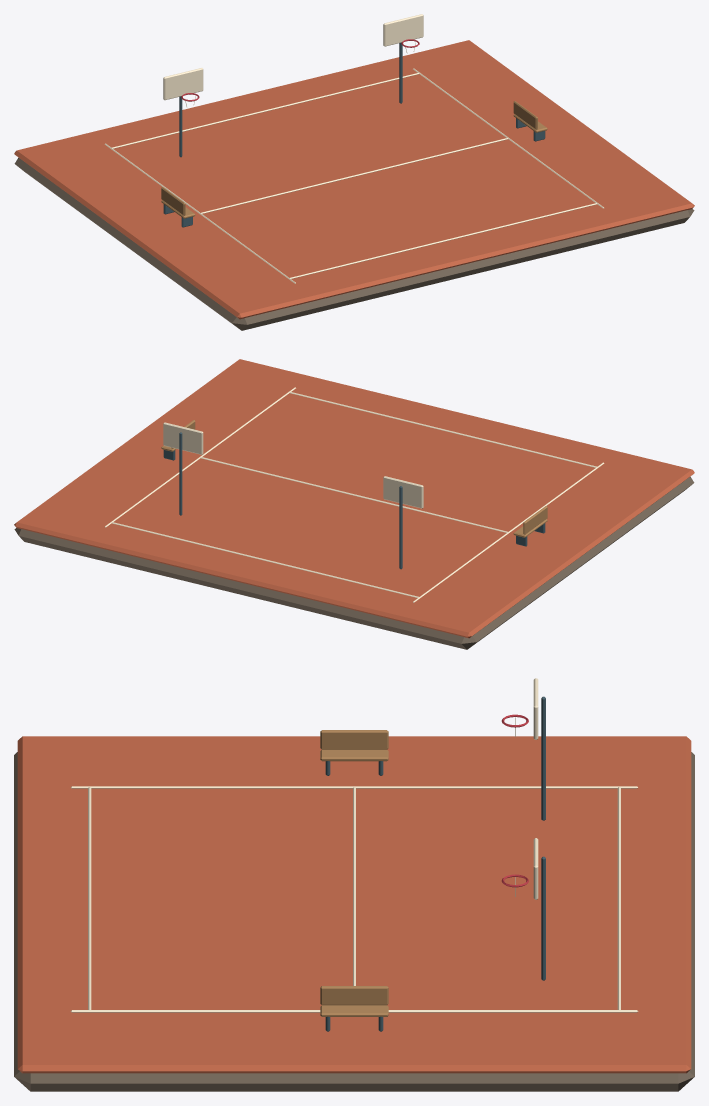
File: world-basketball.glb
The picture shows the model from 3 angles, top to bottom: view 1: azimuth 30°, elevation 25°; view 2: azimuth 150°, elevation 25°; view 3: azimuth 270°, elevation 25°; orthographic projection. The views are drawn at different scales.
Visible parts, largest first — view 1: terrain-top, terrain-stratum, backboard.001, backboard.002, court-line, court-line.002, court-line.001; view 2: terrain-top, terrain-stratum, backboard.002, backboard.001, court-line, court-line.001, court-line.002, court-sideline, court-sideline.001; view 3: terrain-top, terrain-stratum, court-sideline, court-sideline.001, bench-back.001, bench-back.002, court-line, court-line.001, bench-seat.001, bench-seat.002.
Part boxes in pixels (bbox=[...]): terrain-top: bbox=[14, 40, 694, 319]; terrain-stratum: bbox=[14, 157, 694, 330]; backboard.001: bbox=[163, 68, 203, 100]; backboard.002: bbox=[383, 14, 423, 46]; court-line: bbox=[290, 203, 597, 278]; court-line.002: bbox=[201, 138, 508, 213]; court-line.001: bbox=[112, 72, 419, 148]; terrain-top: bbox=[14, 359, 694, 638]; terrain-stratum: bbox=[14, 476, 694, 649]; backboard.002: bbox=[163, 422, 203, 454]; backboard.001: bbox=[383, 476, 423, 508]; court-line: bbox=[289, 391, 596, 467]; court-line.001: bbox=[111, 522, 418, 597]; court-line.002: bbox=[200, 457, 507, 532]; court-sideline: bbox=[413, 462, 604, 602]; court-sideline.001: bbox=[105, 387, 295, 527]; terrain-top: bbox=[17, 736, 691, 1073]; terrain-stratum: bbox=[14, 752, 694, 1091]; court-sideline: bbox=[71, 786, 637, 788]; court-sideline.001: bbox=[70, 1010, 638, 1012]; bench-back.001: bbox=[320, 730, 388, 749]; bench-back.002: bbox=[320, 986, 388, 1005]; court-line: bbox=[88, 787, 91, 1009]; court-line.001: bbox=[617, 787, 620, 1009]; bench-seat.001: bbox=[320, 749, 388, 761]; bench-seat.002: bbox=[320, 1005, 388, 1016].
Size of the model in its own units: 21 by 4.64 by 18.
